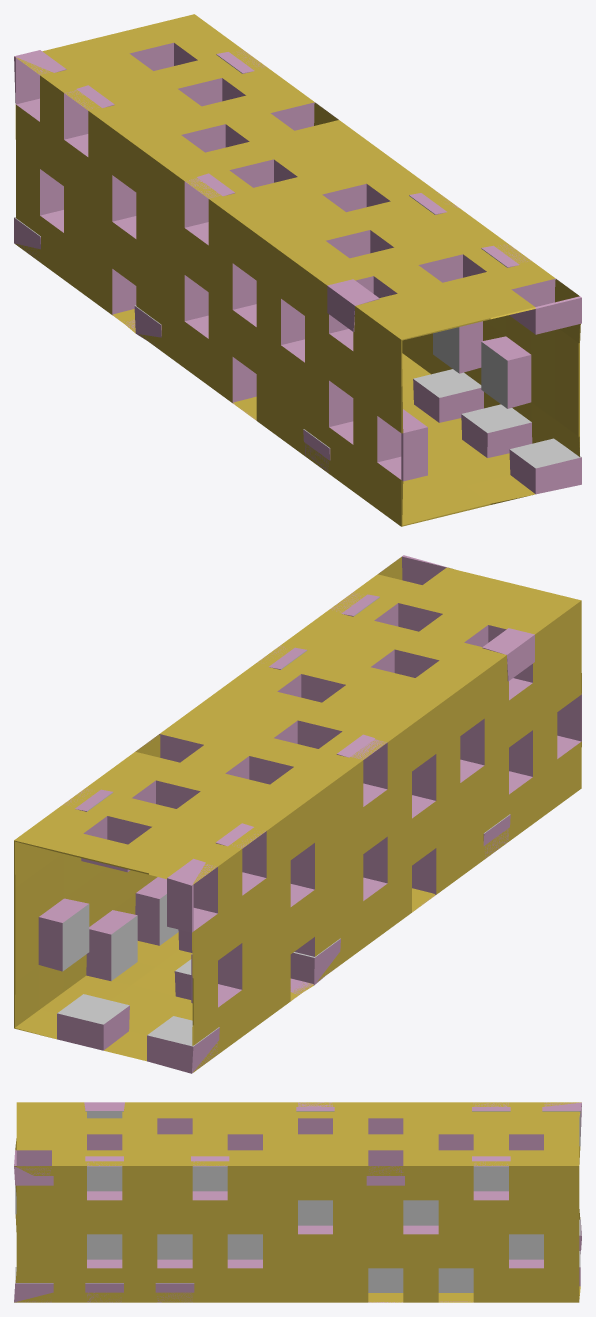
3 views of the same model, one above another, from view 1: azimuth 30°, elevation 25°; view 2: azimuth 150°, elevation 25°; view 3: azimuth 270°, elevation 25° (orthographic). The views are drawn at different scales.
Parts seen in each view (by area): view 1: Cylinder; view 2: Cylinder; view 3: Cylinder.
Boxes of the visible parts, x1,y1,x2,y2 form: Cylinder: (14,14,581,526); Cylinder: (14,555,581,1073); Cylinder: (14,1102,581,1302).
Size of the model in its own units: 713 by 715 by 2668.
